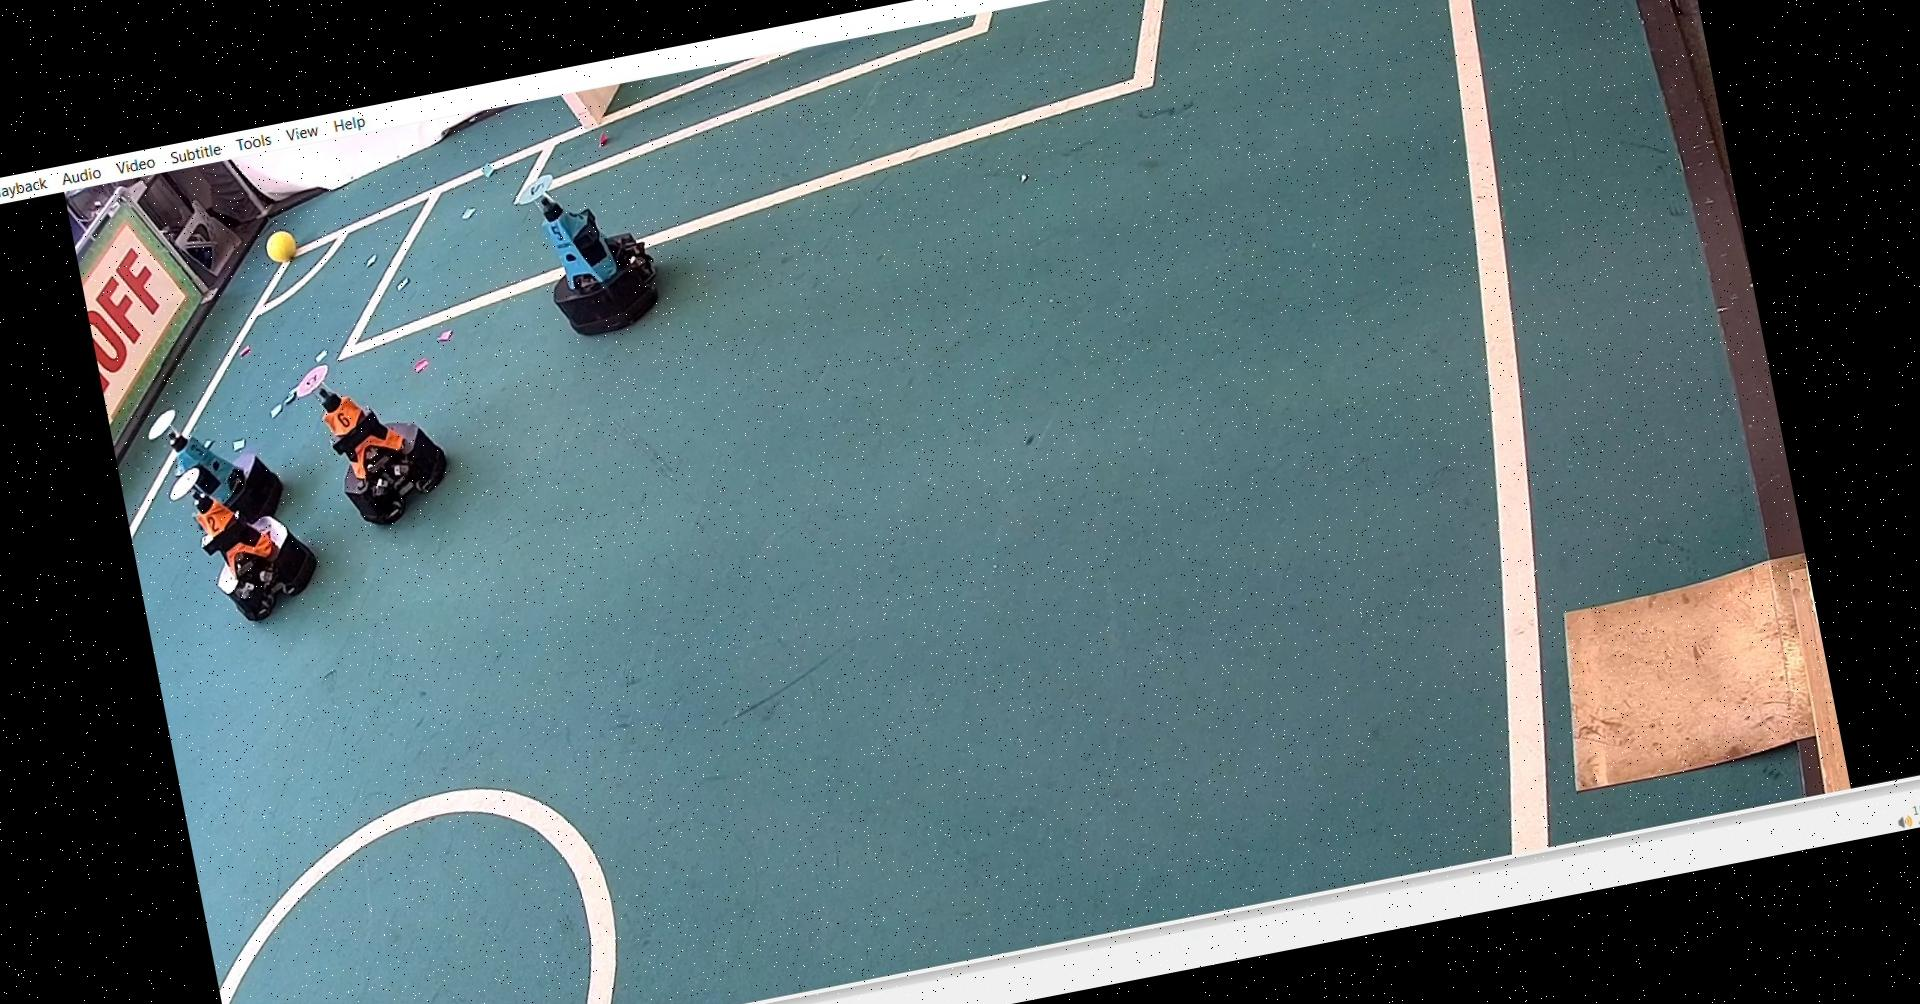Ball: (268, 223, 311, 263)
Team_Blue: (510, 143, 681, 349), (145, 388, 284, 539)
Team_Red: (284, 335, 458, 534), (156, 446, 324, 637)
